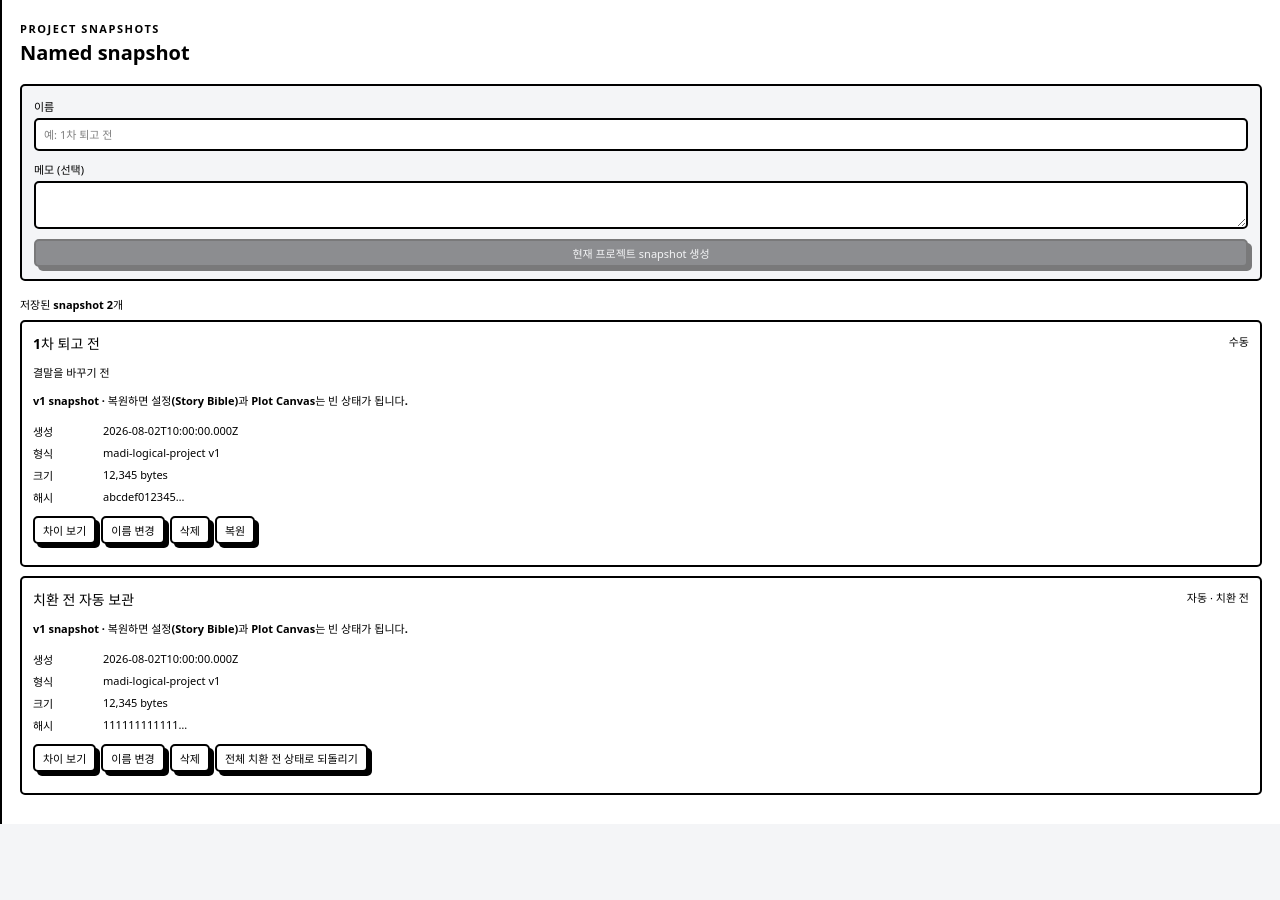
Test: Phase 1B named snapshot panel › warns that restoring a legacy v1 snapshot clears Story Bible and Canvas data
Expected: the text "v1 snapshot · 복원하면 설정(Story Bible)과 Plot Canvas는 빈 상태가 됩니다." is shown 2 times, [33,393,408,408]; [33,621,408,636]
Step 1. Click the button with aria-label "1차 퇴고 전 복원" → point(235, 530), box [215,516,255,544]
(page scrolled)
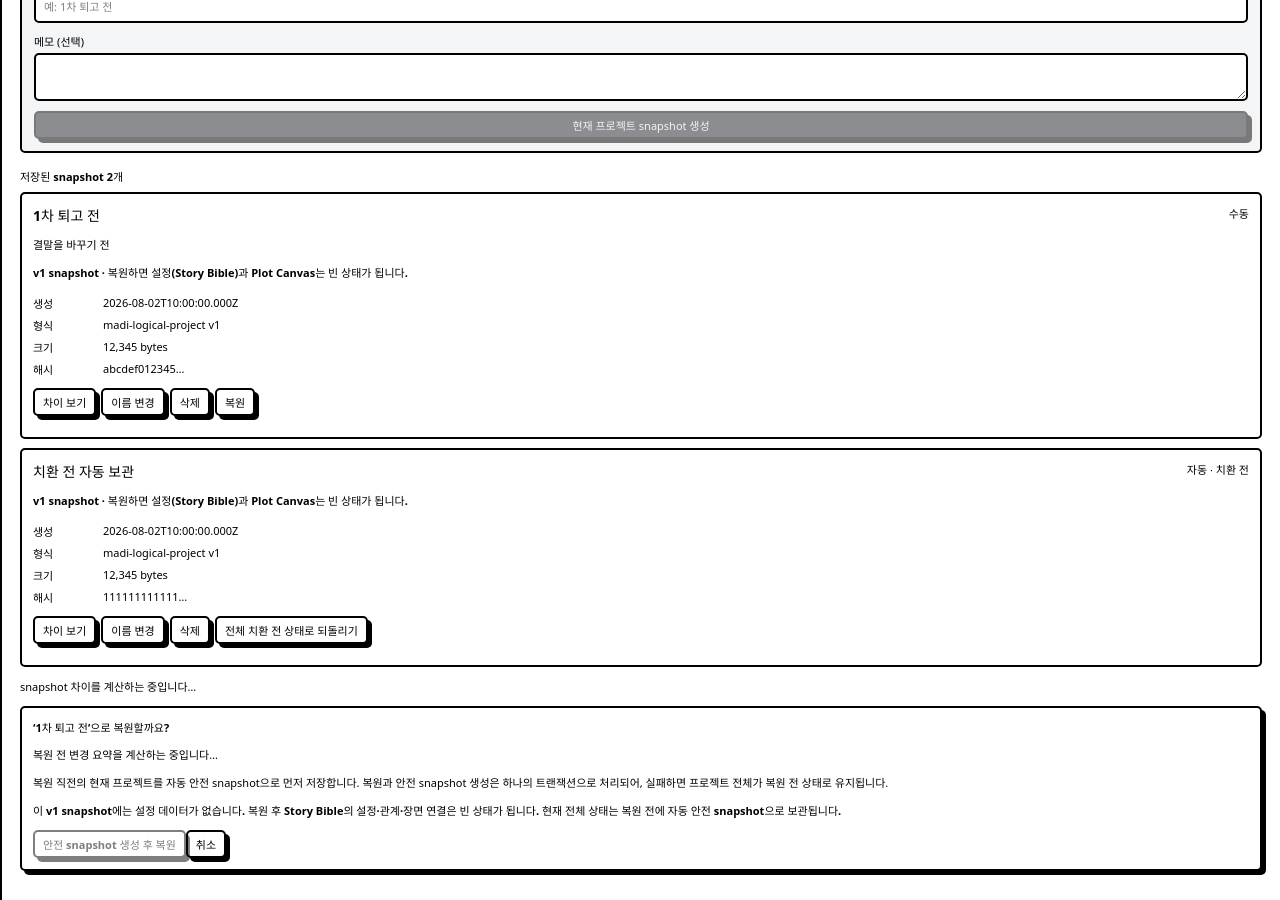
Expected: the text "설정·관계·장면 연결은 빈 상태" is shown, [33,803,841,818]
Expected: the text "자동 안전 snapshot" is shown, [33,775,888,790]
